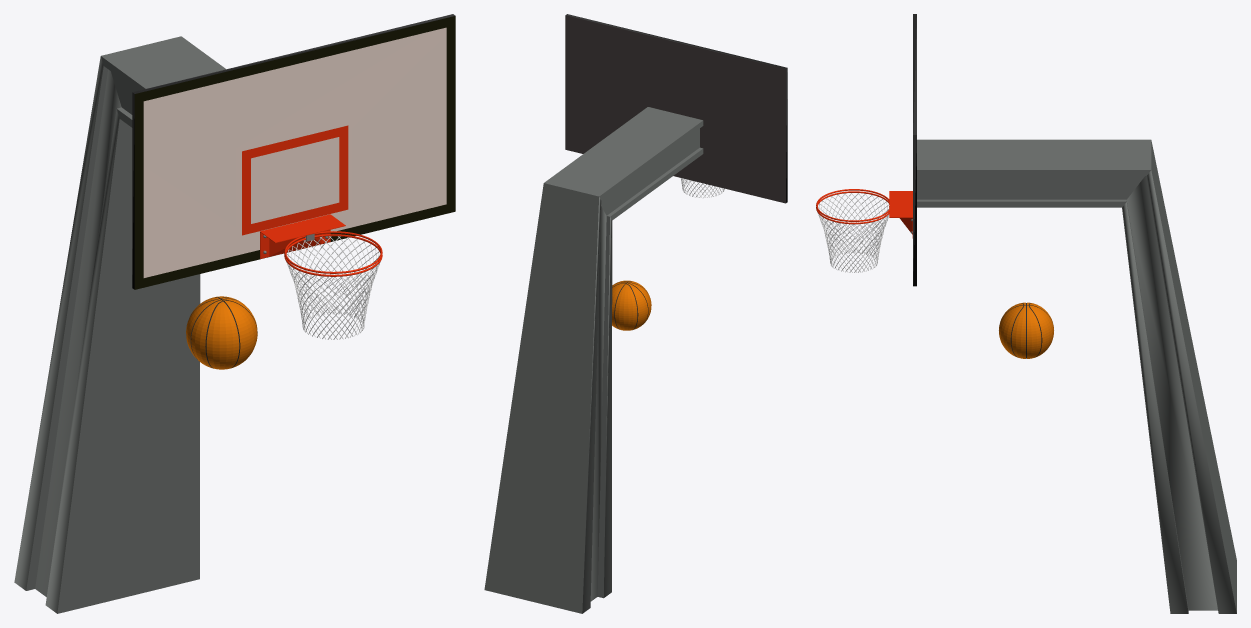
Rendered from basket.fbx.
The picture shows the model from 3 angles, left to right: view 1: azimuth 30°, elevation 25°; view 2: azimuth 150°, elevation 25°; view 3: azimuth 270°, elevation 25°; orthographic projection. The views are drawn at different scales.
Parts seen in each view (by area): view 1: Cube.001, Sphere; view 2: Cube.001, Sphere; view 3: Cube.001, Sphere.
Part boxes in pixels (<box>): Cube.001: <box>14,14,455,613</box>; Sphere: <box>186,296,257,369</box>; Cube.001: <box>484,14,787,613</box>; Sphere: <box>612,280,651,330</box>; Cube.001: <box>816,14,1236,613</box>; Sphere: <box>999,302,1053,358</box>.
Size of the model in its own units: 180 by 356 by 265.
Materials: 1 (1 with a texture image).
